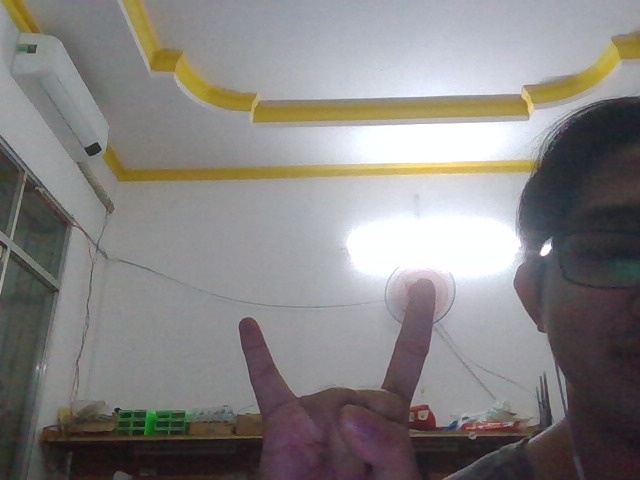yolo: (206, 270, 440, 480)
